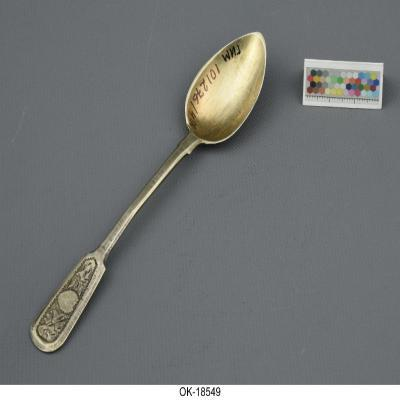dpi: (29, 34, 266, 355)
